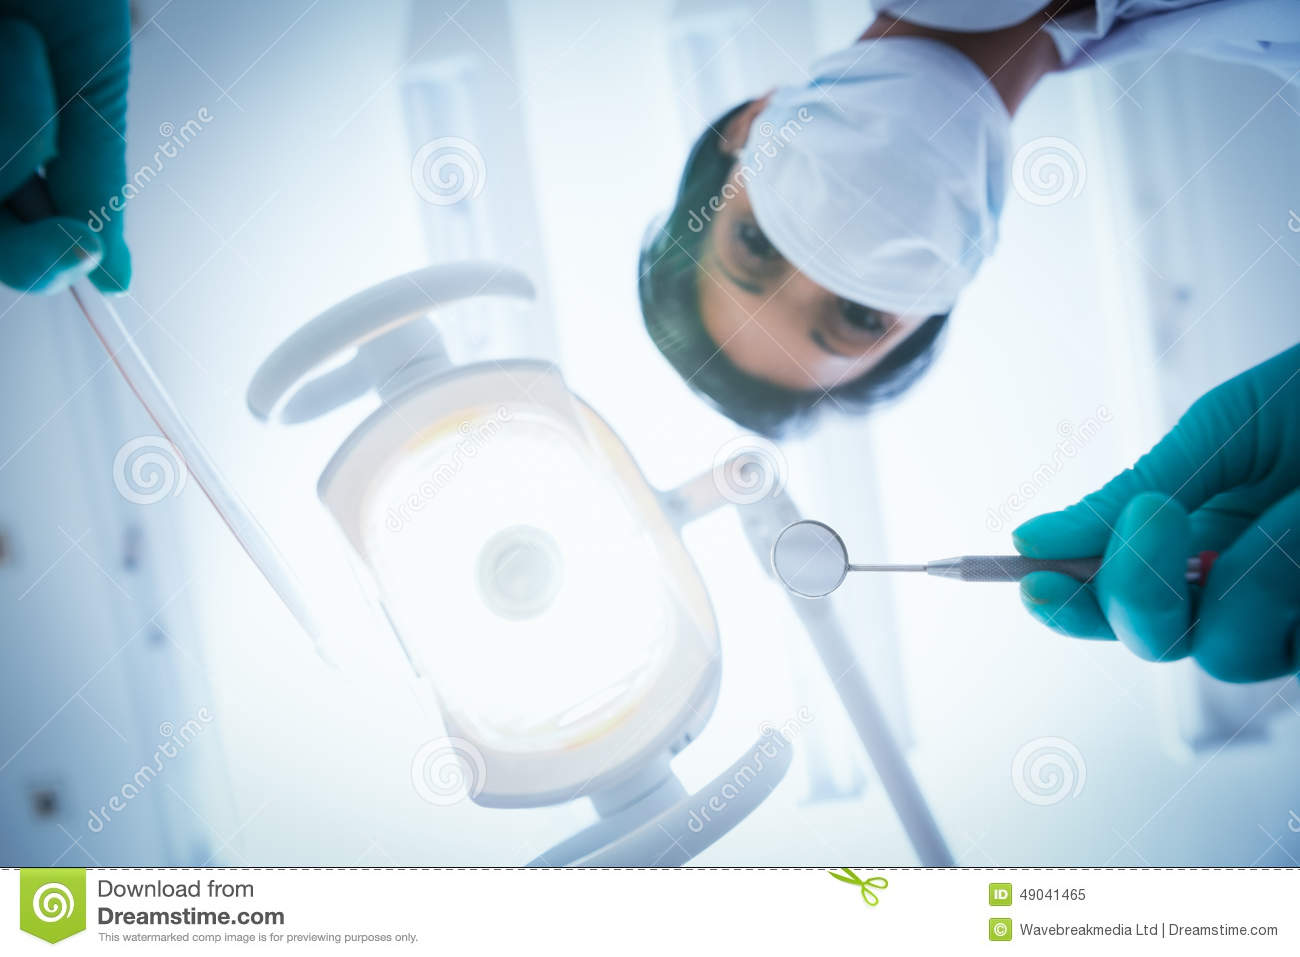mask: (744, 48, 1019, 301)
